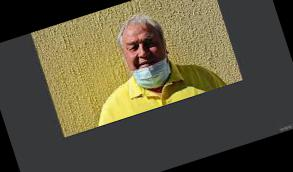mask_weared_incorrect: (123, 31, 171, 79)
